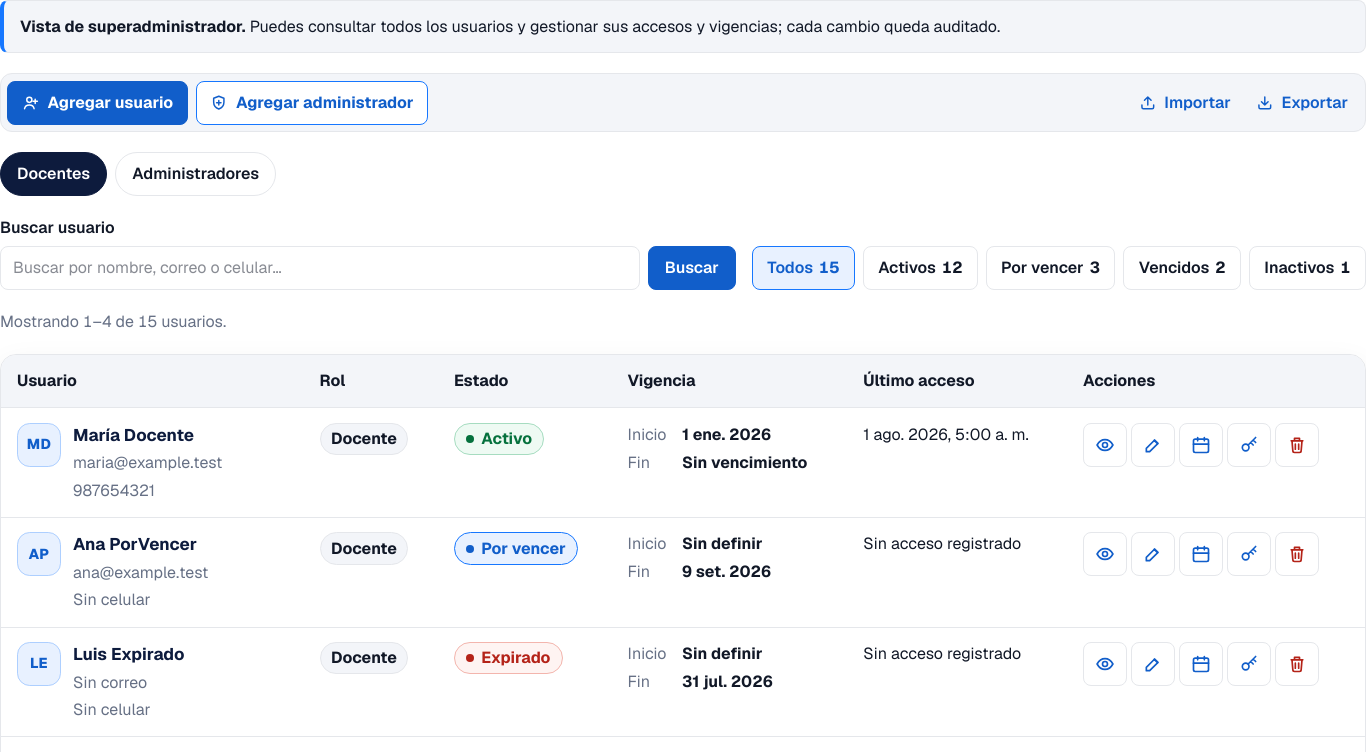
Test case: UsersManager › cada acción de fila abre su propia ventana, no un despliegue en la fila
The image size is (1366, 752).
Click the button named "Editar acceso" in the row of "MD" at {"x": 1153, "y": 445}, box [1131,423,1175,467]
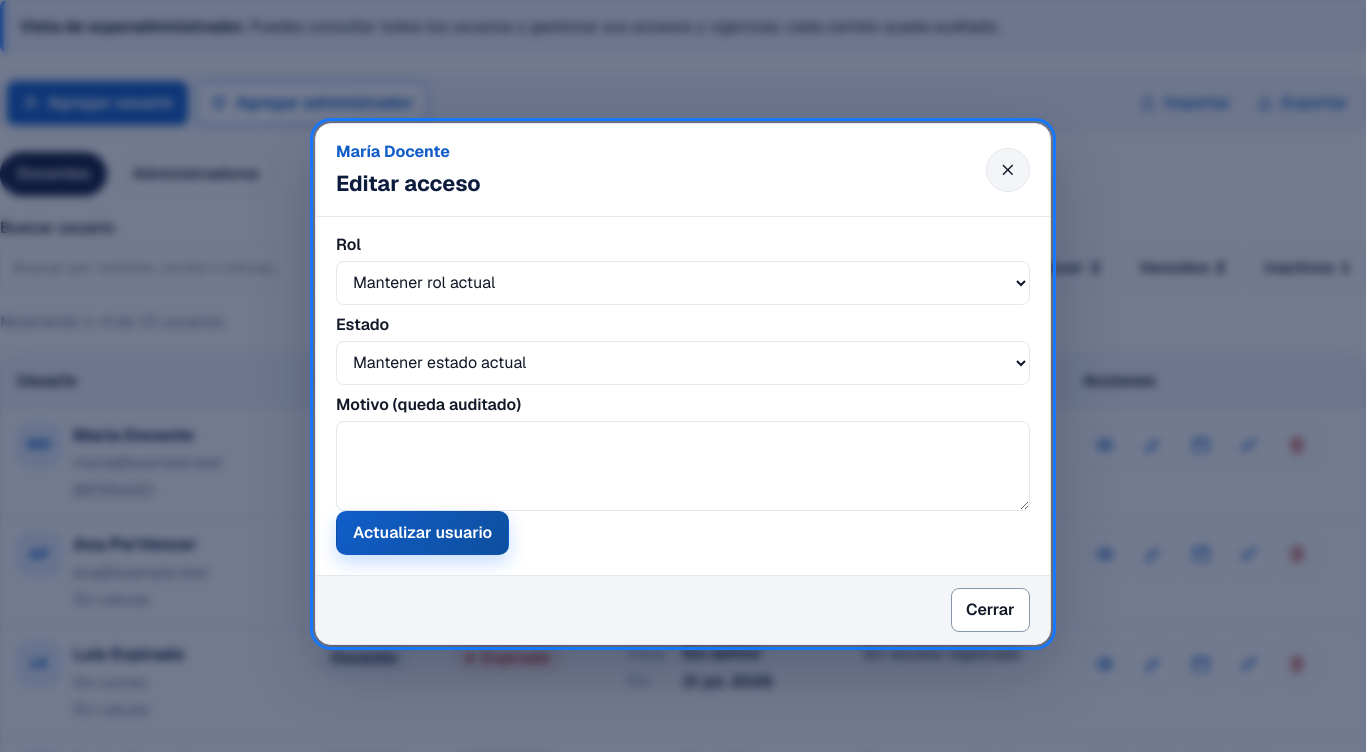
Expected: the dialog "Editar acceso" is shown
Press Escape in the dialog "Editar acceso", box [315,123,1051,645]
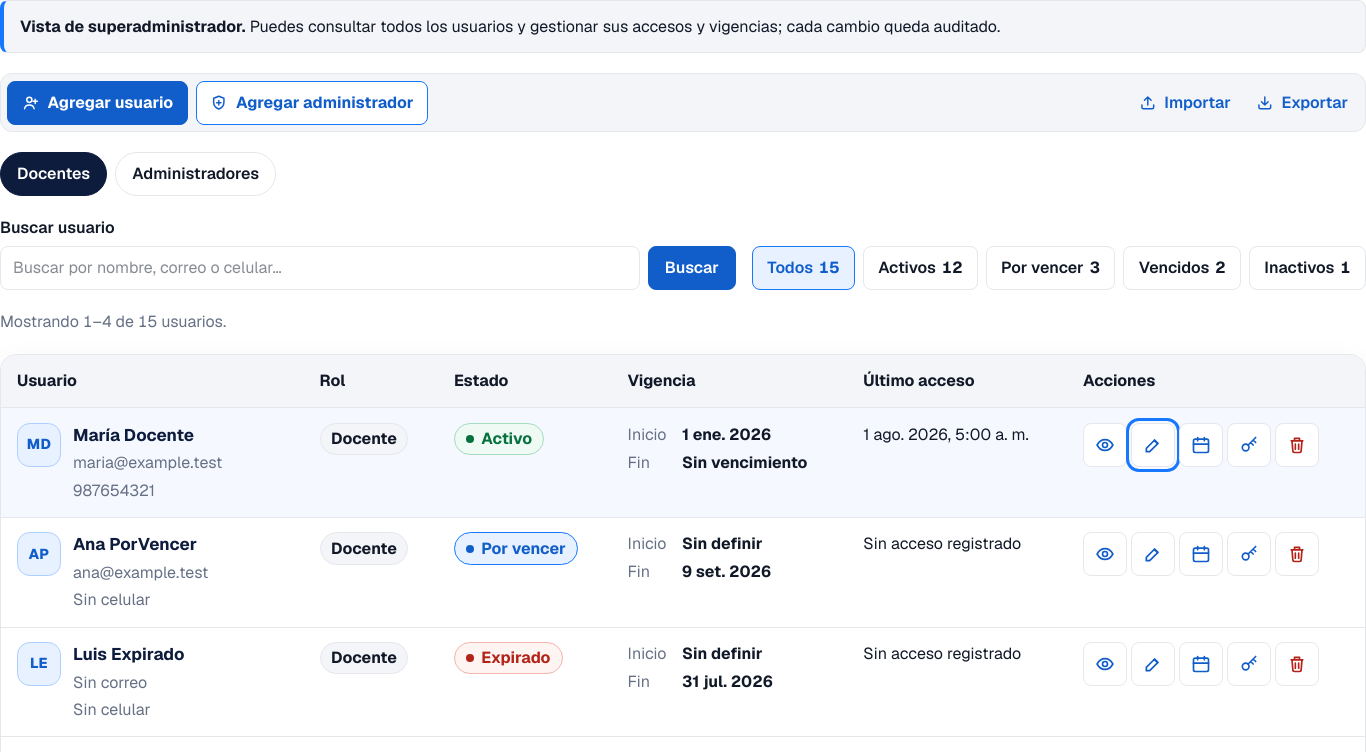
Expected: the heading "Editar acceso" is gone
